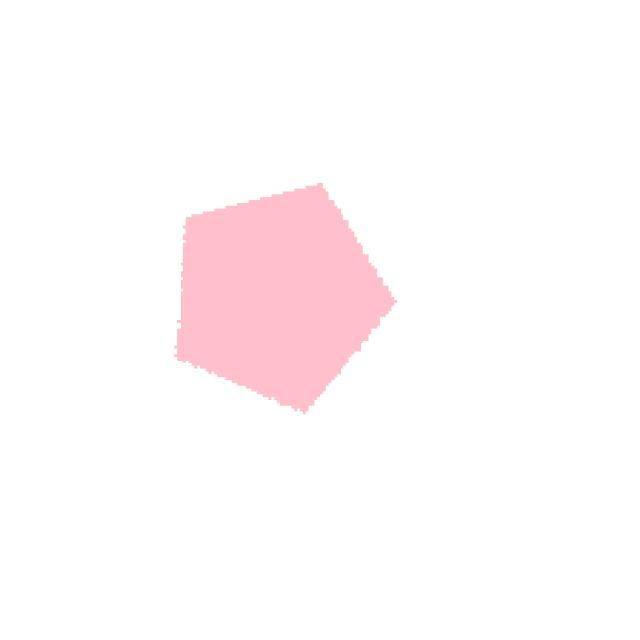Pentagon: (158, 141, 423, 440)
